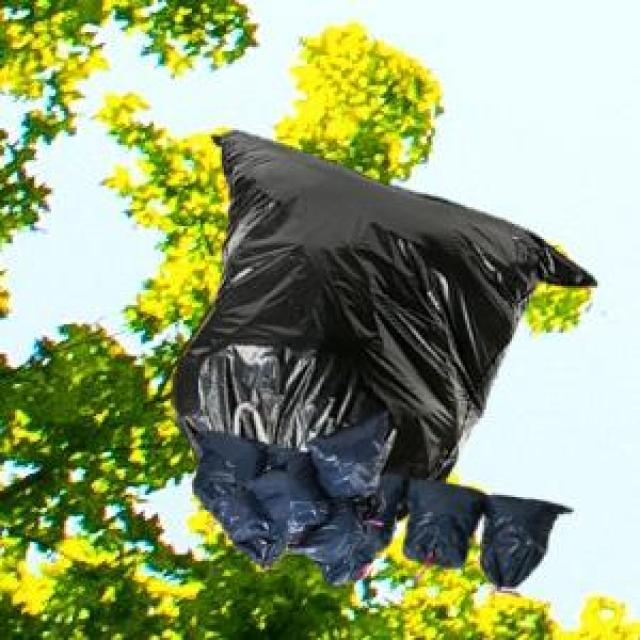Trashbag: (479, 490, 571, 595), (401, 475, 488, 569), (316, 407, 395, 507), (252, 446, 328, 541), (295, 499, 379, 584), (192, 426, 264, 502), (214, 486, 274, 567)
